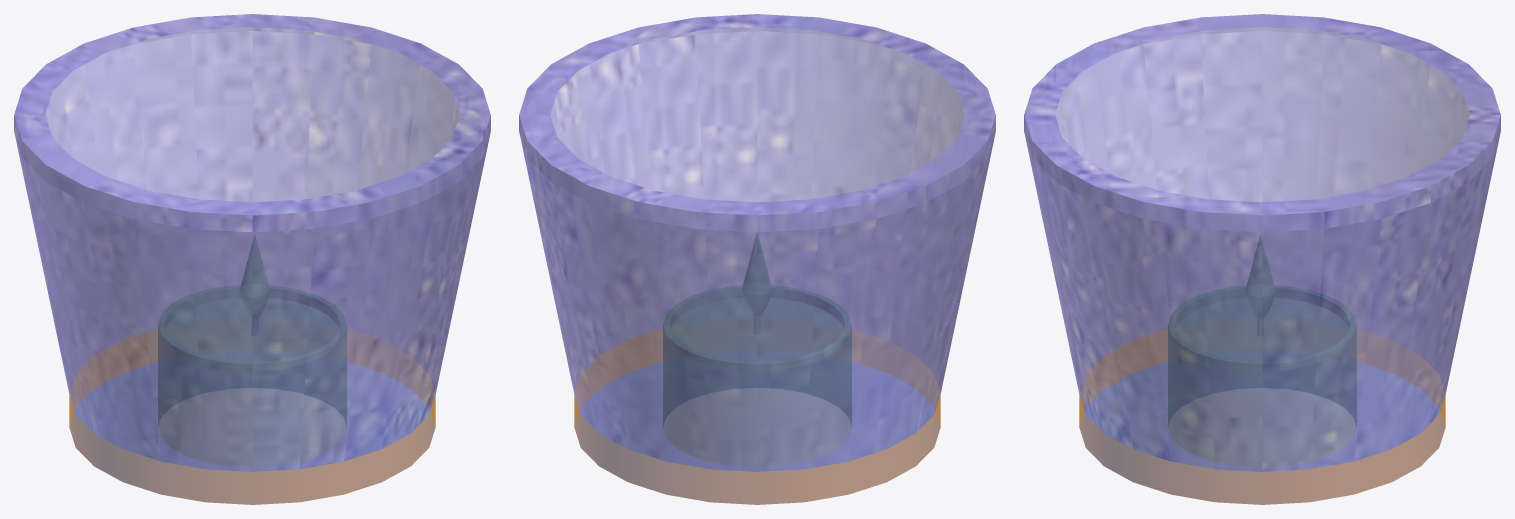
3 renders of one model, left to right at view 1: azimuth 30°, elevation 25°; view 2: azimuth 150°, elevation 25°; view 3: azimuth 270°, elevation 25°, orthographic.
Parts seen in each view (by area): view 1: Mesh1_Group1_Model; view 2: Mesh1_Group1_Model; view 3: Mesh1_Group1_Model.
Boxes of the visible parts, bbox=[...] form: Mesh1_Group1_Model: bbox=[14, 14, 490, 504]; Mesh1_Group1_Model: bbox=[519, 14, 995, 504]; Mesh1_Group1_Model: bbox=[1024, 14, 1500, 504].
Size of the model in its own units: 1 by 0.7258 by 1.
Materials: 4 (1 with a texture image).
